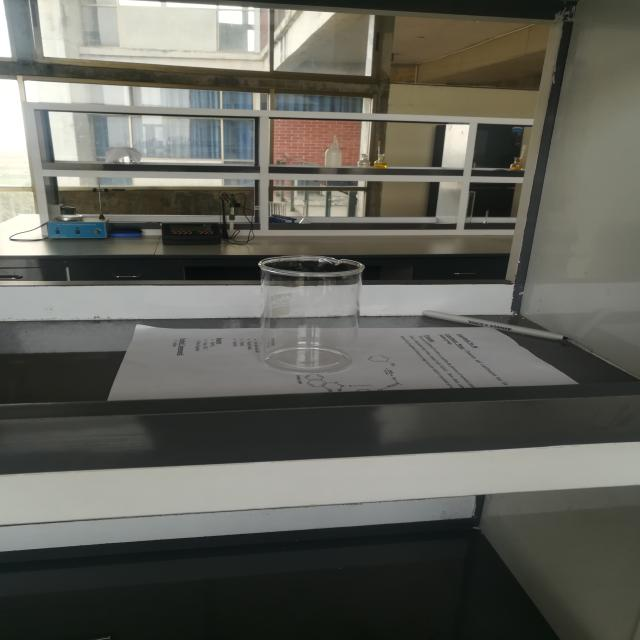Beaker: (230, 221, 376, 386)
